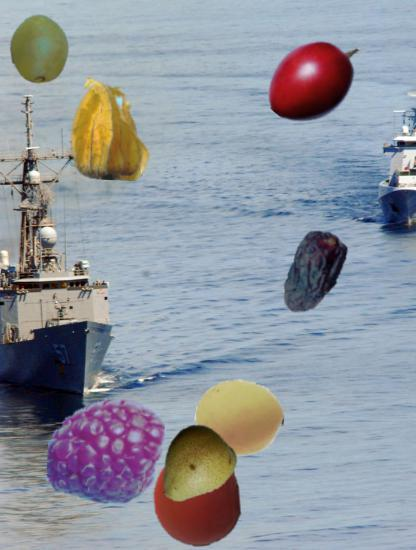Dates: (267, 227, 356, 316)
Grape: (4, 14, 75, 85)
Peach: (195, 373, 284, 462)
Pear: (152, 425, 236, 509)
Physalis: (60, 78, 163, 181)
Raspberry: (48, 393, 165, 510)
Tamarillo: (263, 27, 366, 130)
Tomato: (149, 451, 245, 547)
